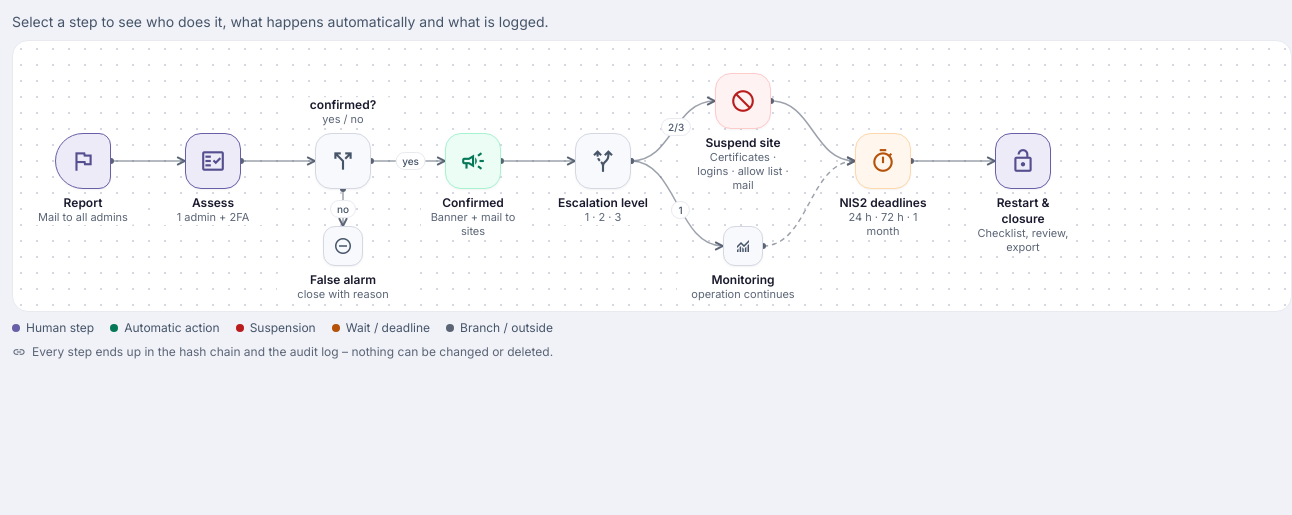
Test case: IncidentFlowDiagram › opens the explanation of a node, names the next steps and closes on Escape
The image size is (1292, 515).
Click the button named "Suspend site". click: (743, 101)
box: [715, 73, 771, 129]
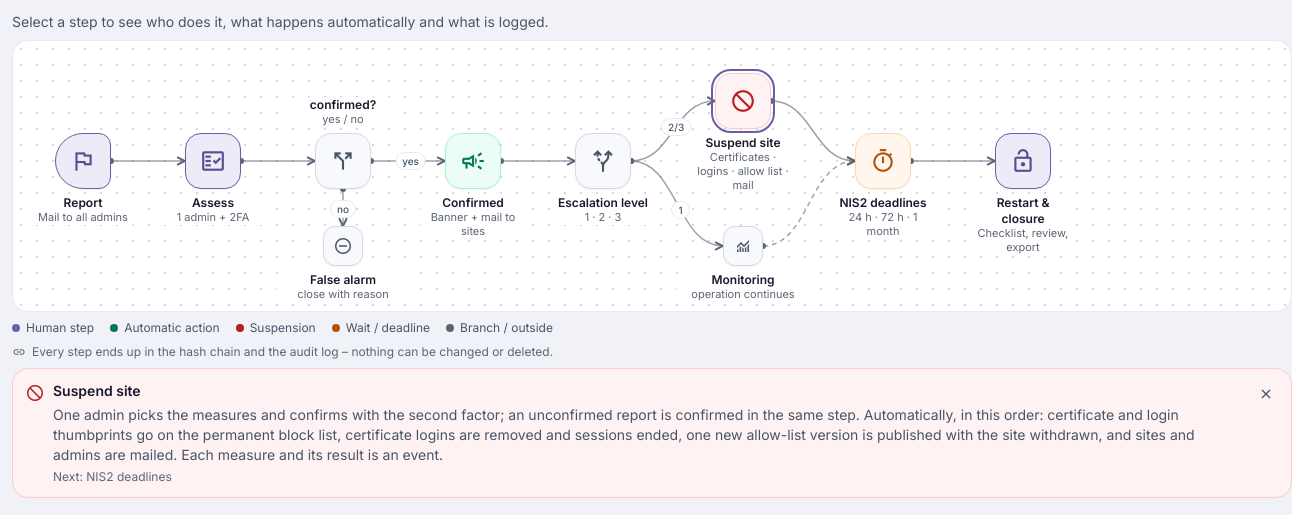
Result: the text "One admin picks the measures and confirms with the second factor; an unconfirmed report is confirmed in the same step. A" is shown at [53, 406, 1195, 463]
Result: the text "Next: NIS2 deadlines" is shown at [53, 469, 172, 484]
Press Escape
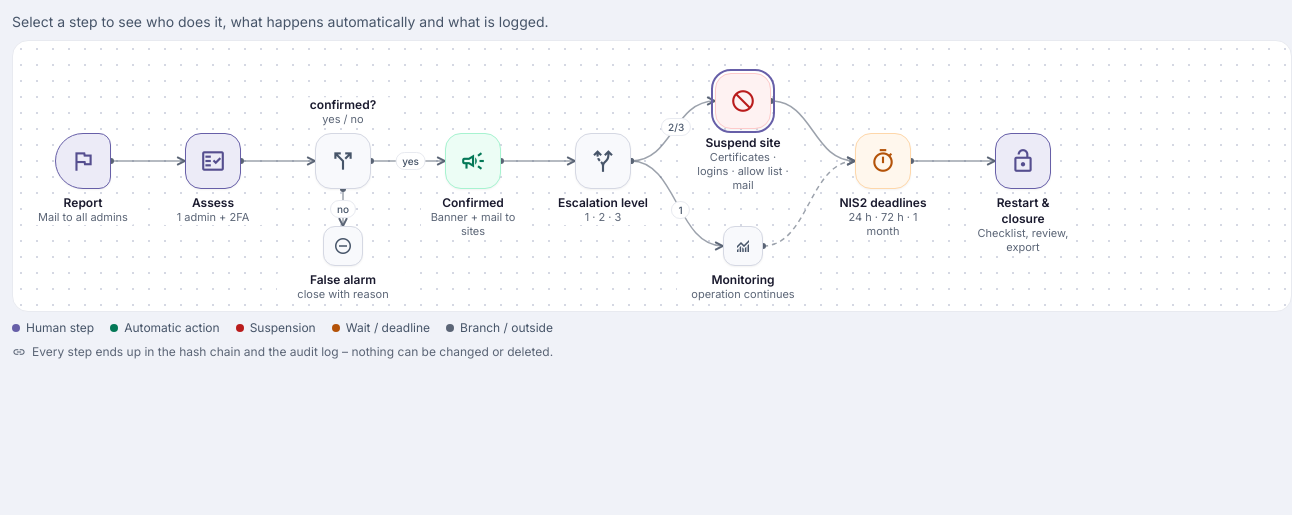
Result: the element with test id "incident-flow-panel" is gone
Click the button named "Suspend site". click: (743, 101)
box: [715, 73, 771, 129]
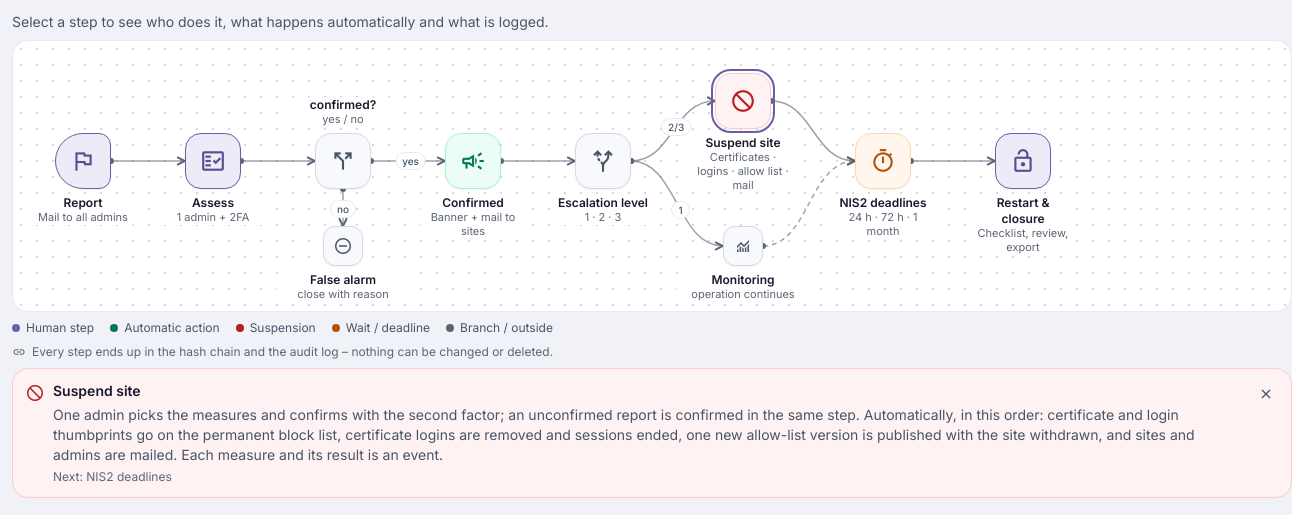
Click the button named "Suspend site". click: (743, 101)
box: [715, 73, 771, 129]
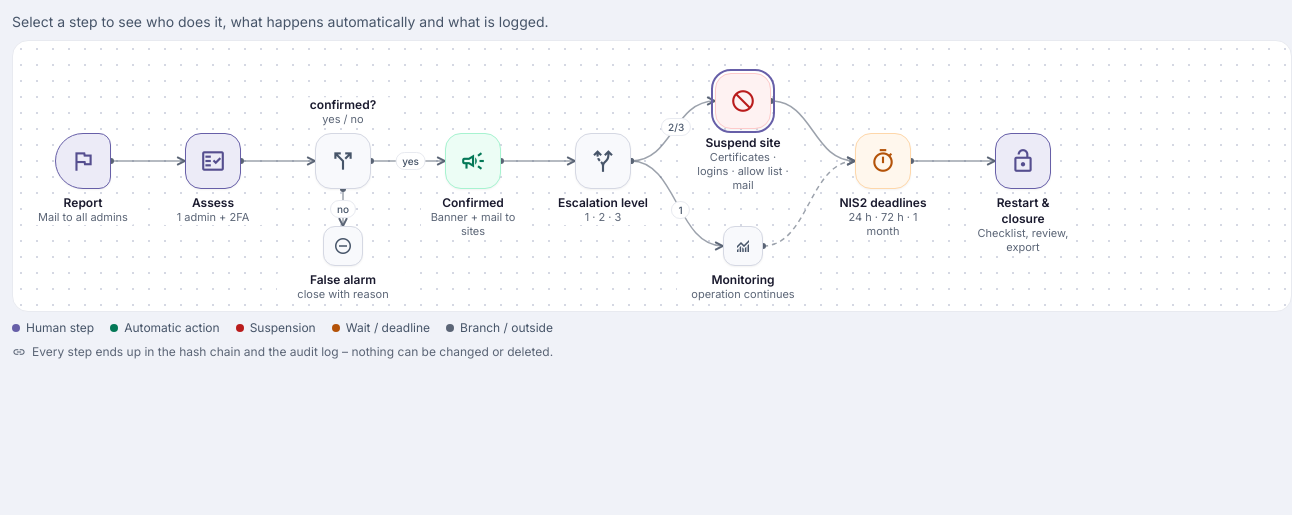
Result: the element with test id "incident-flow-panel" is gone
